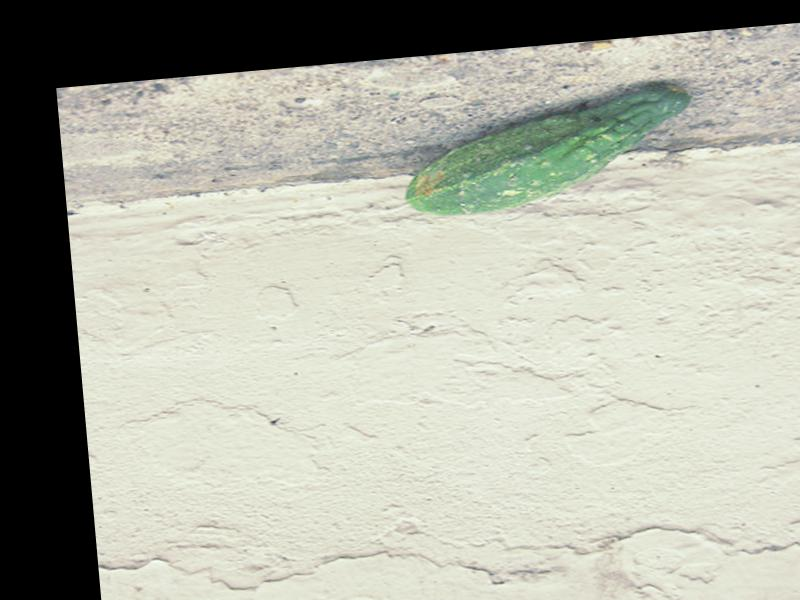Cucumber: (398, 82, 694, 220)
